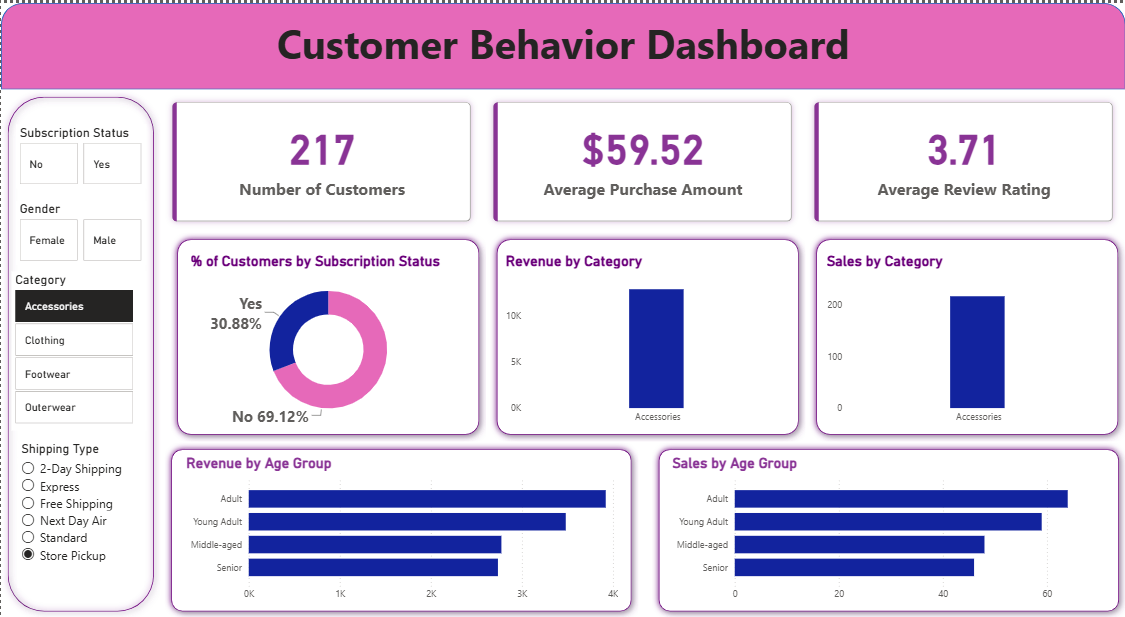

This screenshot's page, from the dashboard's own definition file:
{"tool":"powerbi","page":{"name":"Page 1","canvas":[1500,820],"ordinal":0},"visuals":[{"type":"cardVisual","fields":{"Data":["public customer.Number of Customers","public customer.Average Purchase Amount","public customer.Average Review Rating"]},"box":[212.9,115.3,1286.5,191.6],"z":2000},{"type":"shape","box":[218.3,585.6,631.7,234.2],"z":2500,"group":"g1"},{"type":"shape","box":[0,0,1499.4,115.3],"z":3000},{"type":"textbox","box":[0,12.4,1499.4,102.9],"z":4000},{"type":"shape","box":[225.4,307,420.5,278.6],"z":5000},{"type":"donutChart","title":"% of Customers by Subscription Status","fields":{"Category":["public customer.subscription_status"],"Y":["CountNonNull(public customer.customer_id)"]},"box":[248.4,331.8,376.2,237.8],"z":6000},{"type":"shape","box":[1078.9,307,420.5,278.6],"z":7000},{"type":"shape","box":[652.1,307,420.5,278.6],"z":8000},{"type":"clusteredColumnChart","title":"Revenue by Category","fields":{"Y":["Sum(public customer.purchase_amount)"],"Category":["public customer.category"]},"box":[667.2,331.8,385.1,237.8],"z":9000},{"type":"clusteredColumnChart","title":"Sales by Category","fields":{"Y":["CountNonNull(public customer.customer_id)"],"Category":["public customer.category"]},"box":[1096.6,331.8,385.1,237.8],"z":10000},{"type":"shape","box":[0,115.3,212.9,704.5],"z":11000},{"type":"advancedSlicerVisual","fields":{"Values":["public customer.subscription_status"]},"box":[19.5,161.5,173.9,85.2],"z":12000},{"type":"advancedSlicerVisual","fields":{"Values":["public customer.gender"]},"box":[19.5,264.4,173.9,85.2],"z":13000},{"type":"advancedSlicerVisual","fields":{"Values":["public customer.category"]},"box":[14,358,180,212],"z":14000},{"type":"listSlicer","fields":{"Values":["public customer.shipping_type"]},"box":[22,584,168,196],"z":15000},{"type":"shape","box":[867.7,585.6,631.7,234.2],"z":16000},{"type":"clusteredBarChart","title":"Sales by Age Group","fields":{"Y":["CountNonNull(public customer.customer_id)"],"Category":["public customer.age_group"]},"box":[890.8,601.5,585.6,204.1],"z":17000},{"type":"clusteredBarChart","title":"Revenue by Age Group","fields":{"Y":["Sum(public customer.purchase_amount)"],"Category":["public customer.age_group"]},"box":[241.4,601.6,585.6,204.1],"z":17500,"group":"g1"},{"type":"group","id":"g1","title":"Group 1","box":[218.3,585.6,631.7,234.2],"z":17501}]}

Visuals, with their boxes in screenshot pixels (x1, y1, x2, y2), scaled from the page's 1500x820 canvas onto the 1125x617 screenshot:
cardVisual - public customer.Number of Customers x public customer.Average Purchase Amount: (x1=160, y1=87, x2=1124, y2=231)
shape: (x1=164, y1=441, x2=638, y2=616)
shape: (x1=0, y1=0, x2=1124, y2=87)
textbox: (x1=0, y1=9, x2=1124, y2=87)
shape: (x1=169, y1=231, x2=484, y2=441)
"% of Customers by Subscription Status" donutChart: (x1=186, y1=250, x2=468, y2=429)
shape: (x1=809, y1=231, x2=1124, y2=441)
shape: (x1=489, y1=231, x2=804, y2=441)
"Revenue by Category" clusteredColumnChart: (x1=500, y1=250, x2=789, y2=429)
"Sales by Category" clusteredColumnChart: (x1=822, y1=250, x2=1111, y2=429)
shape: (x1=0, y1=87, x2=160, y2=616)
advancedSlicerVisual - public customer.subscription_status: (x1=15, y1=122, x2=145, y2=186)
advancedSlicerVisual - public customer.gender: (x1=15, y1=199, x2=145, y2=263)
advancedSlicerVisual - public customer.category: (x1=10, y1=269, x2=146, y2=429)
listSlicer - public customer.shipping_type: (x1=16, y1=439, x2=142, y2=587)
shape: (x1=651, y1=441, x2=1124, y2=616)
"Sales by Age Group" clusteredBarChart: (x1=668, y1=453, x2=1107, y2=606)
"Revenue by Age Group" clusteredBarChart: (x1=181, y1=453, x2=620, y2=606)
"Group 1" group: (x1=164, y1=441, x2=638, y2=616)
